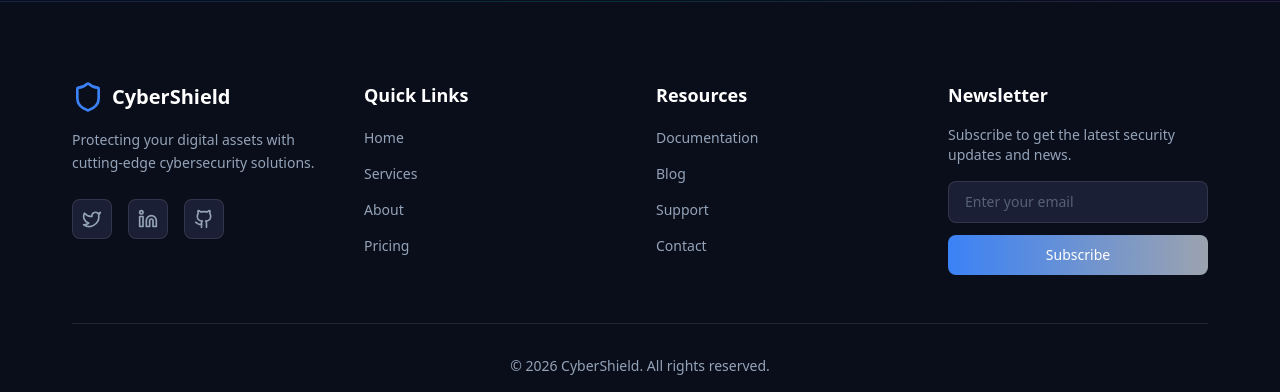
Footer › Newsletter Form Submission › should show loading state during submission
Step 1. Type "test@example.com" into the field with placeholder "Enter your email" → (1078, 202), box [948, 181, 1208, 223]
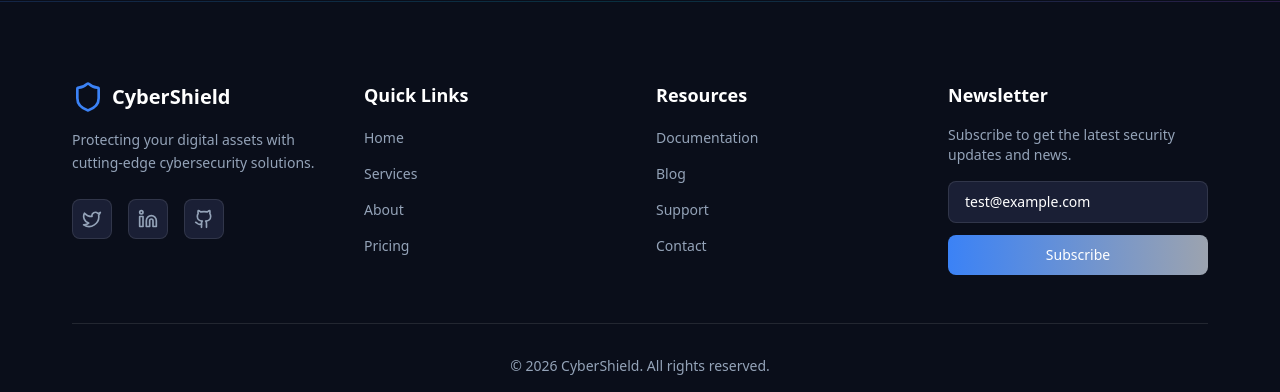
Step 2. Click the button "Subscribe" → click(1078, 255), box [948, 235, 1208, 275]
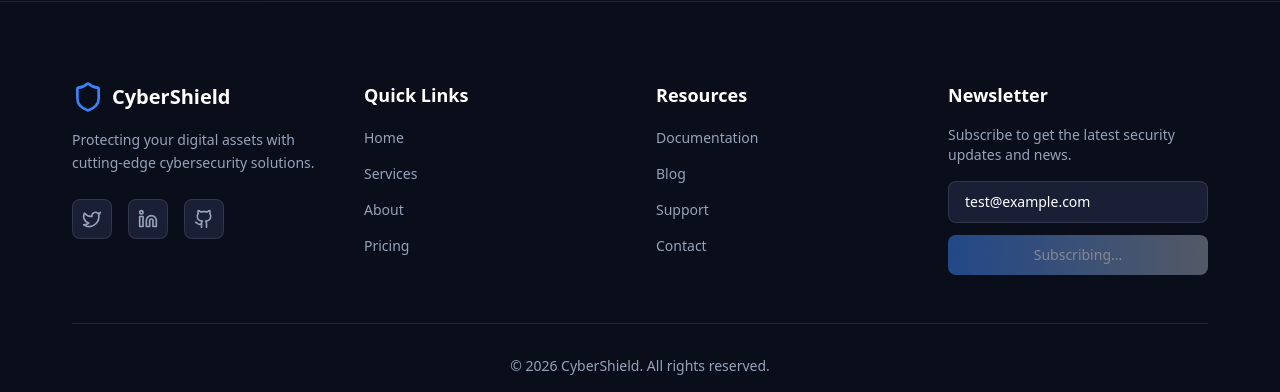
Expected: the field with placeholder "Enter your email" is disabled, [948, 181, 1208, 223]
Expected: the button "Subscribing..." is disabled, [948, 235, 1208, 275]
